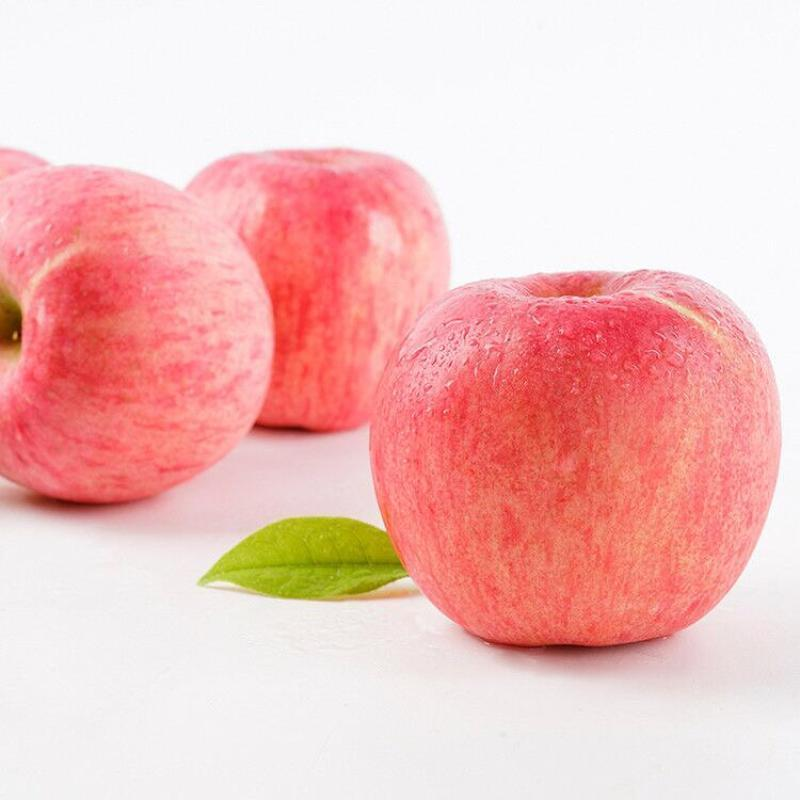apple: (368, 268, 784, 657), (1, 164, 272, 518), (169, 143, 448, 443)
